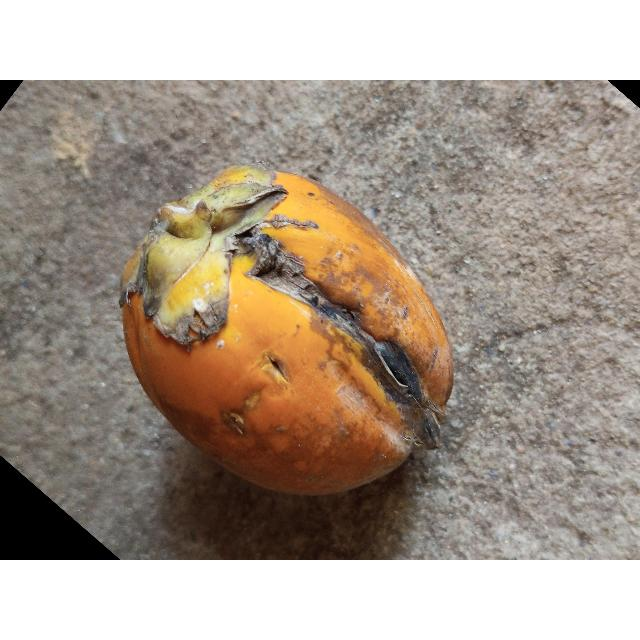damaged: (119, 167, 454, 498)
